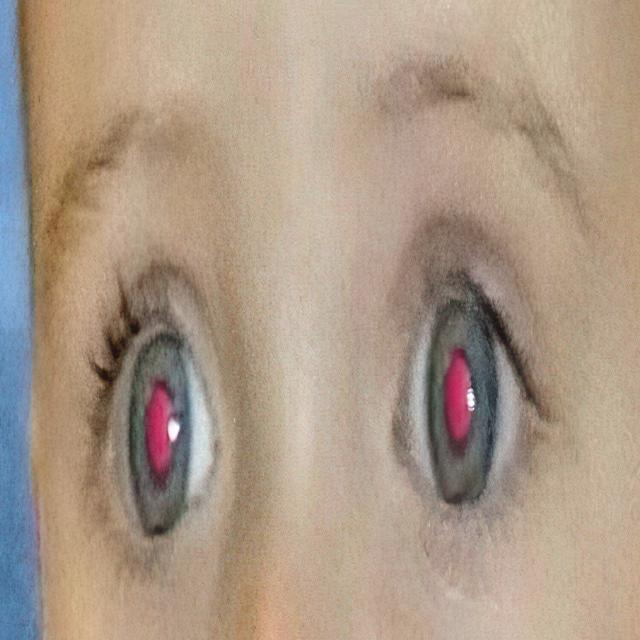reflexo-normal: (403, 273, 522, 524), (100, 334, 218, 550)
